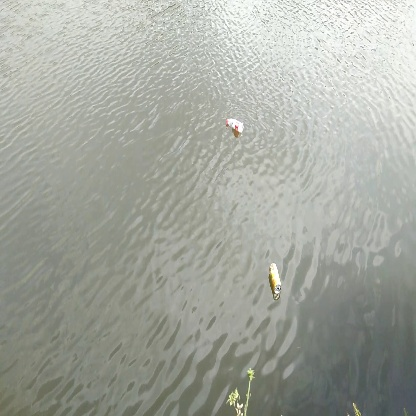bottle: (267, 260, 286, 299), (223, 116, 249, 139)
